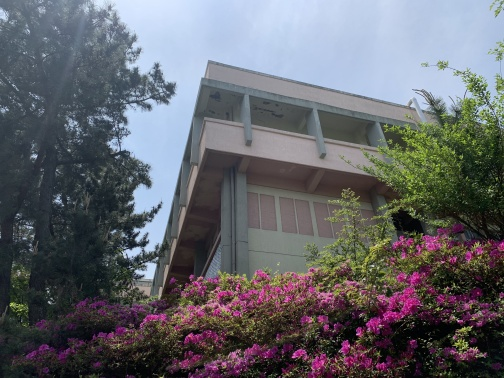College Of Education: (145, 39, 463, 310)
